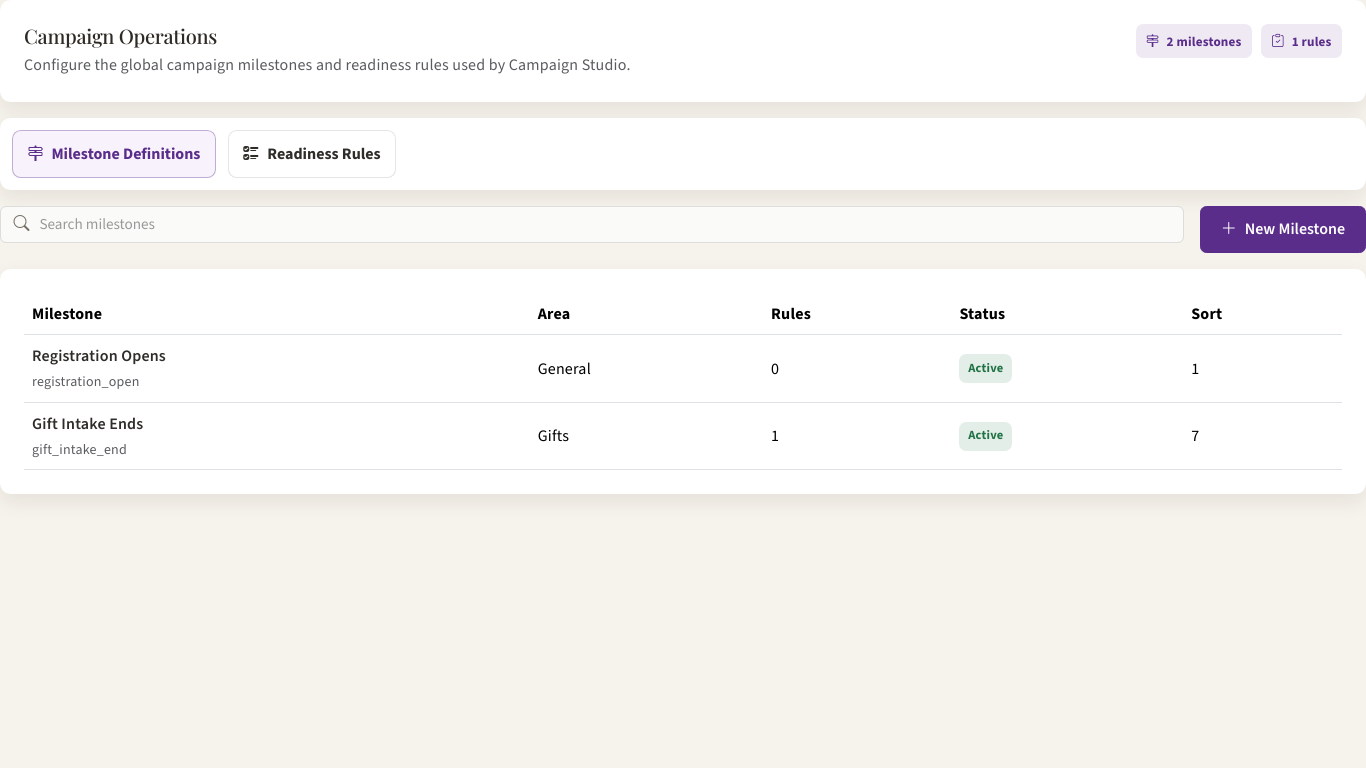
Scenario: AdminCampaignOperationsWorkspace › shows readiness rules that reference the selected milestone
Click the button named "edit milestone gift intake ends": (683, 436) top-left (24, 402), bottom-right (1342, 470)
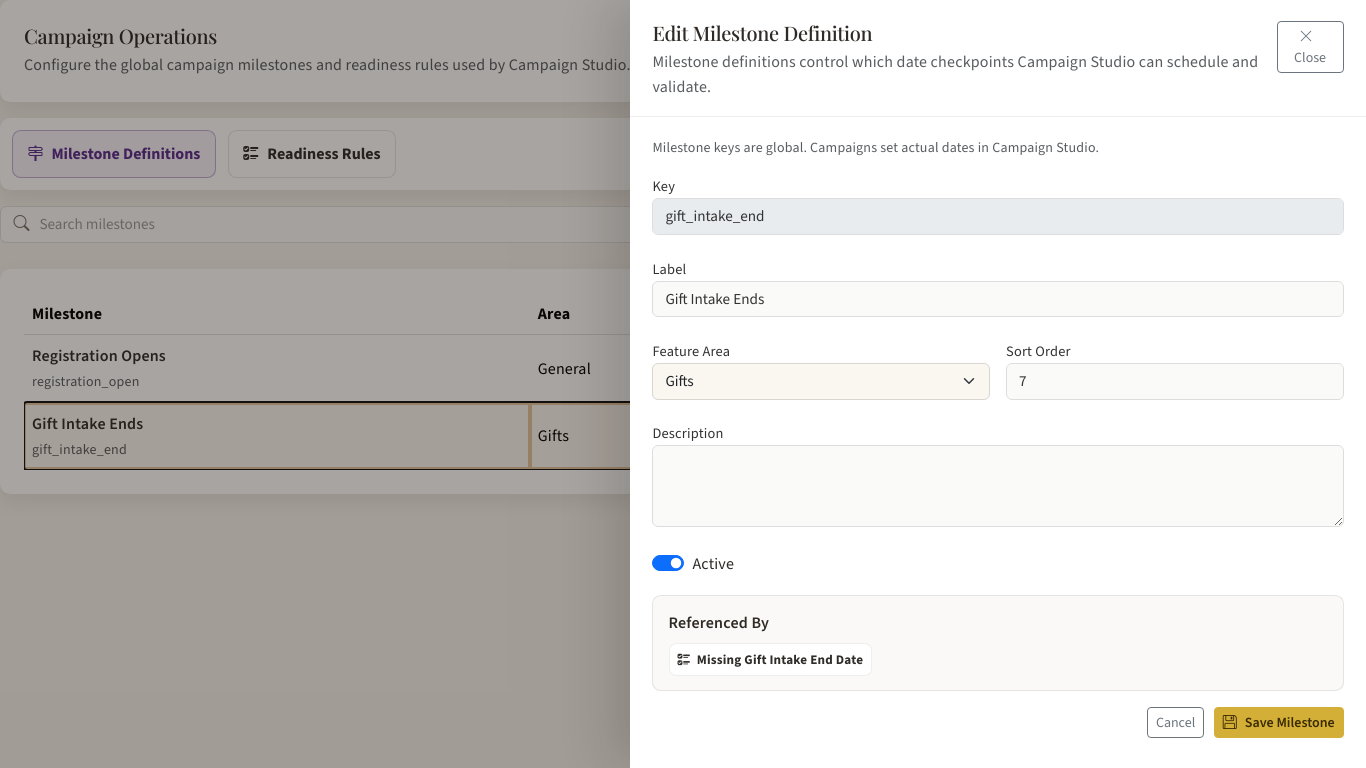
Expected: the text "Referenced By" is shown, top-left (669, 612), bottom-right (769, 633)
Expected: the text "Missing Gift Intake End Date" is shown, top-left (669, 643), bottom-right (872, 676)
